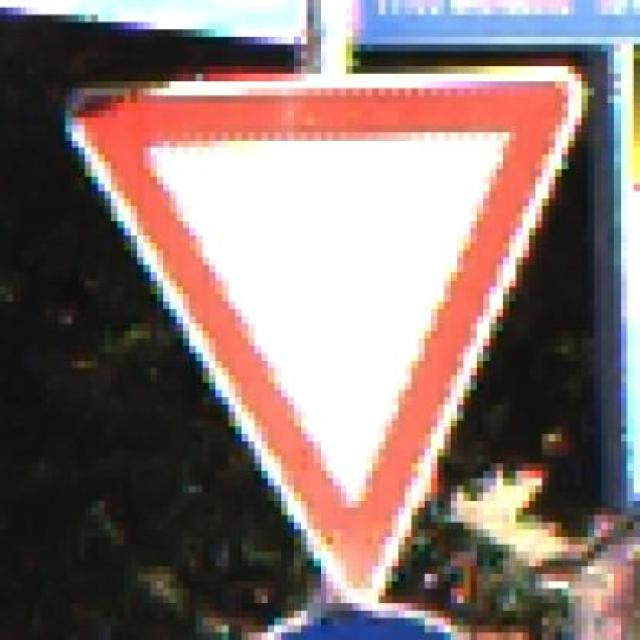Give Way: (45, 59, 601, 603)
